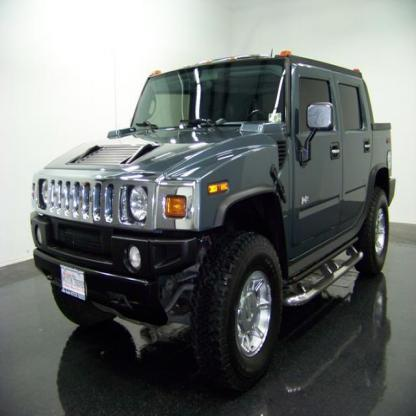Vehicle: (30, 49, 397, 394)
